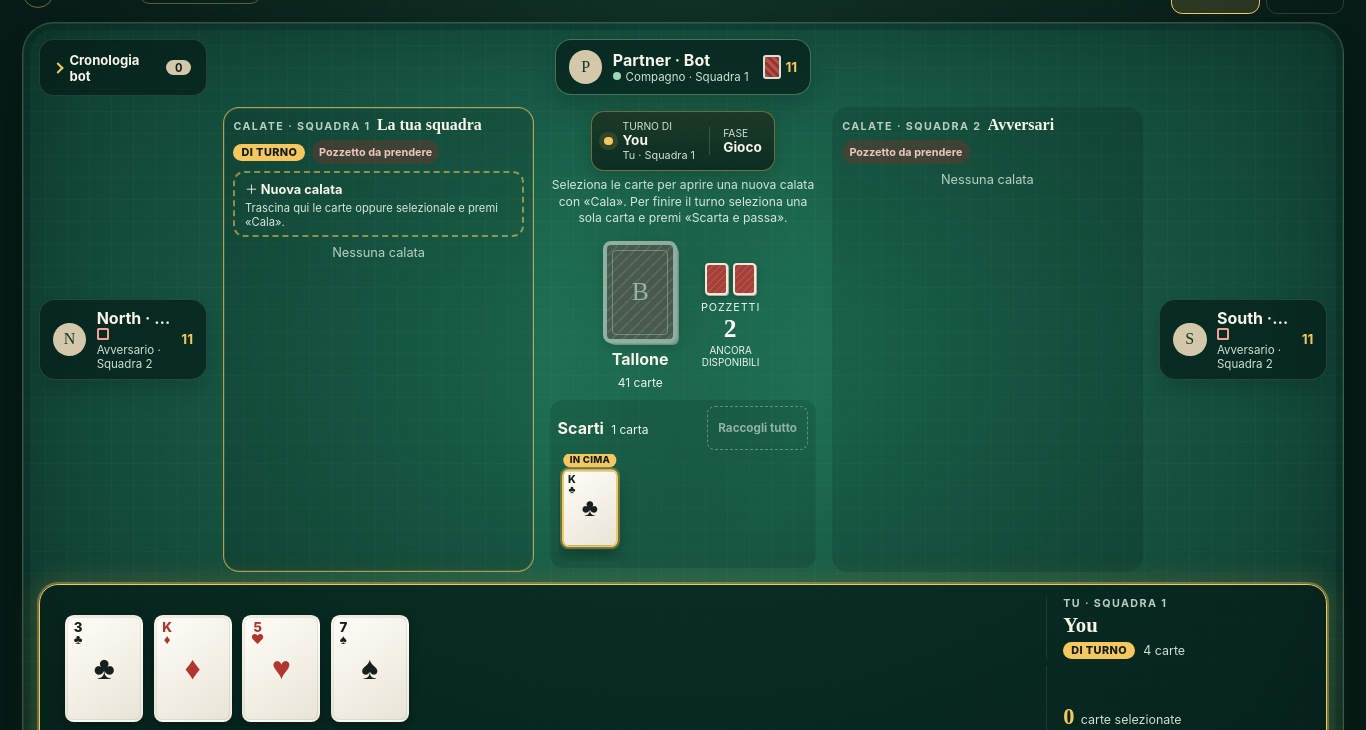
it: GameTable M30 motion layer › creates no flight for a rejected engine action
The width and height of the screenshot is (1366, 730).
Click the button "3 ♣ ♣". click: (104, 668)
box: [65, 614, 143, 722]
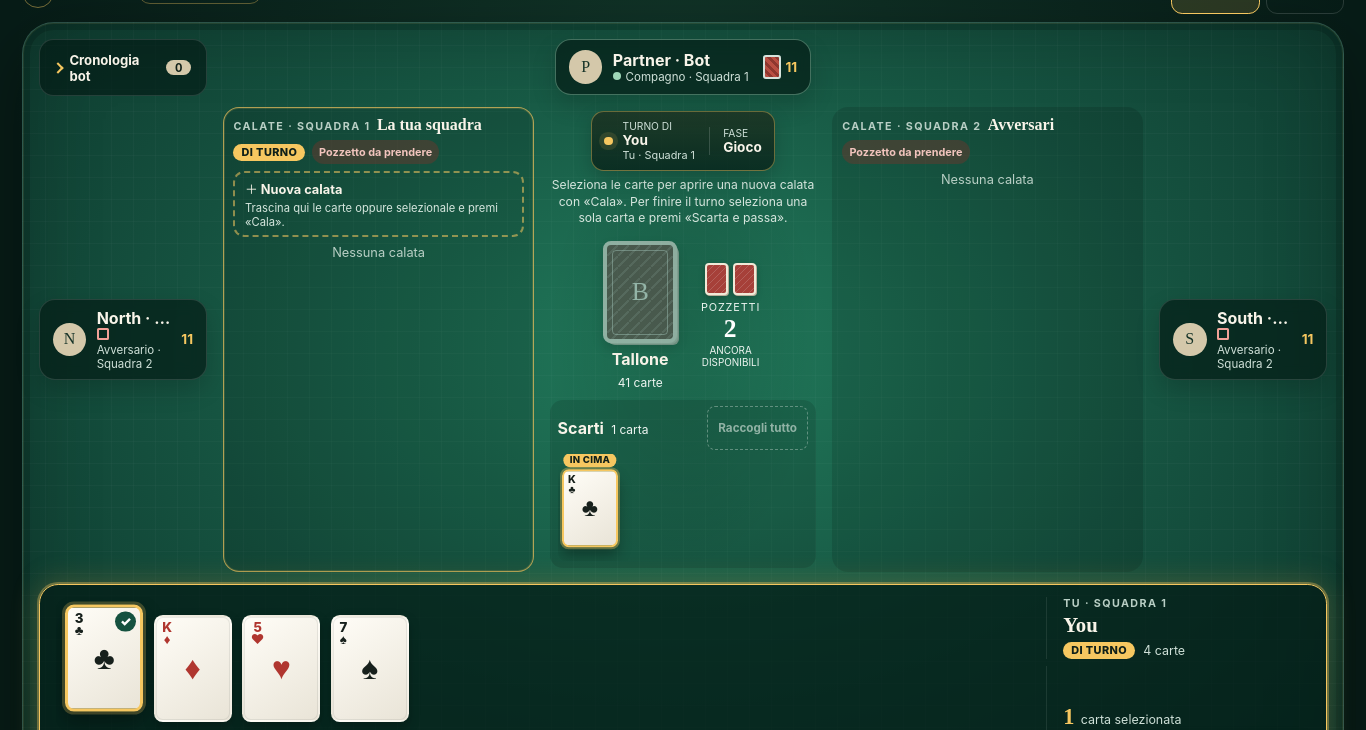
Click the button "5 ♥ ♥". click: (281, 668)
box: [242, 614, 320, 722]
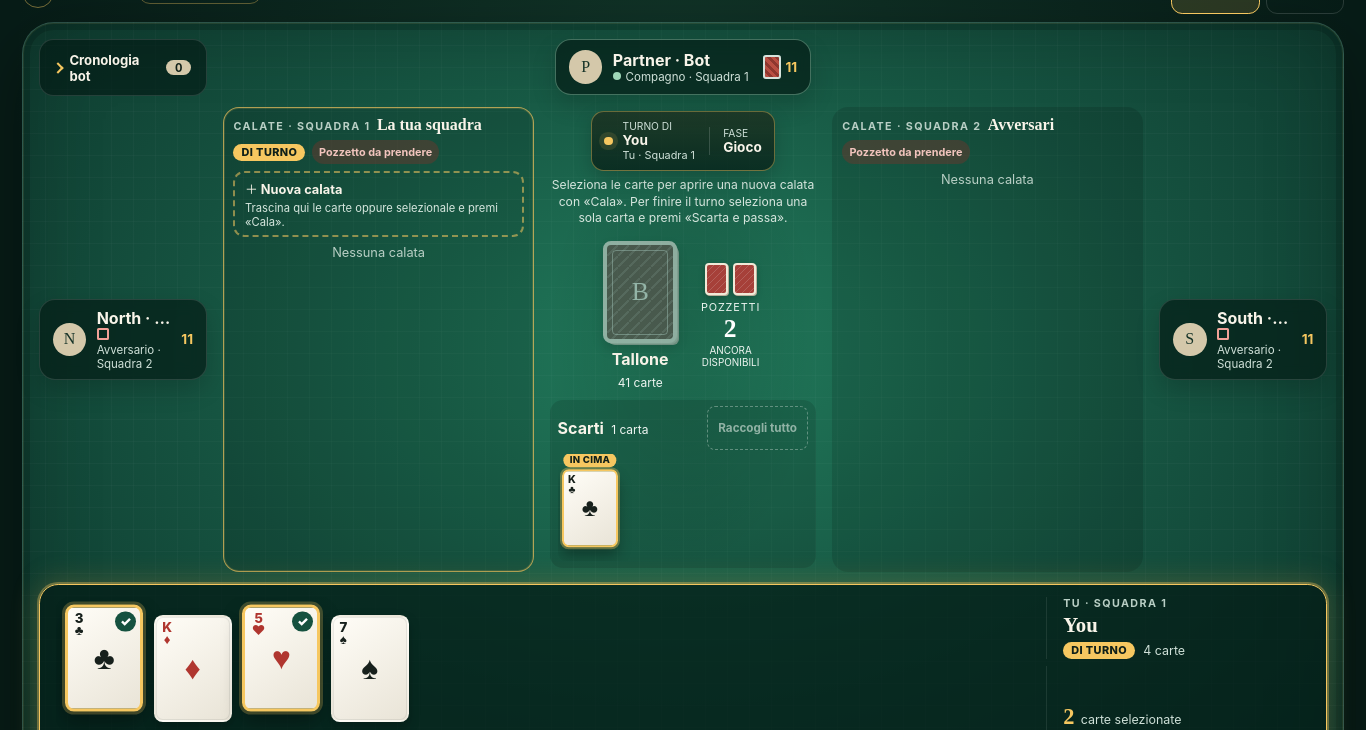
Click the button "7 ♠ ♠". click: (370, 668)
box: [331, 614, 409, 722]
(page scrolled)
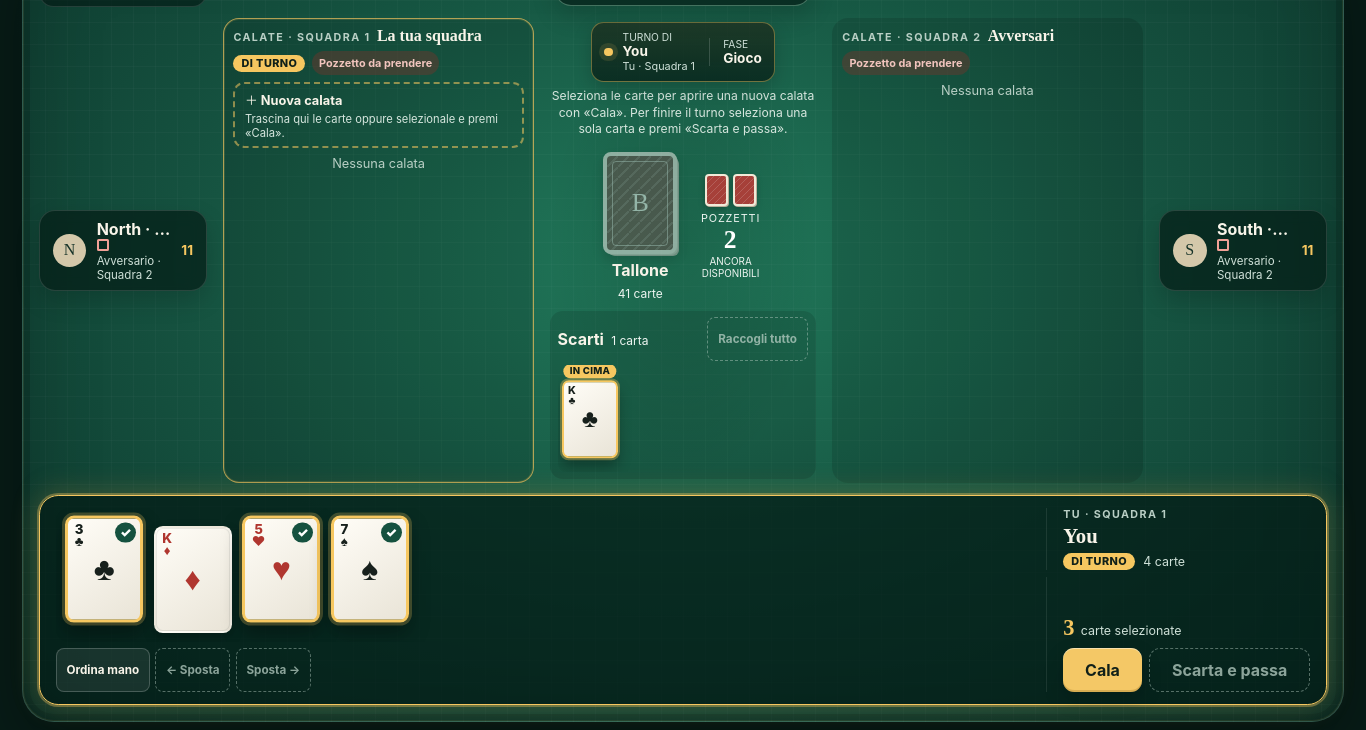
Click the button "Cala". click: (1103, 670)
box: [1063, 648, 1142, 692]
(page scrolled)
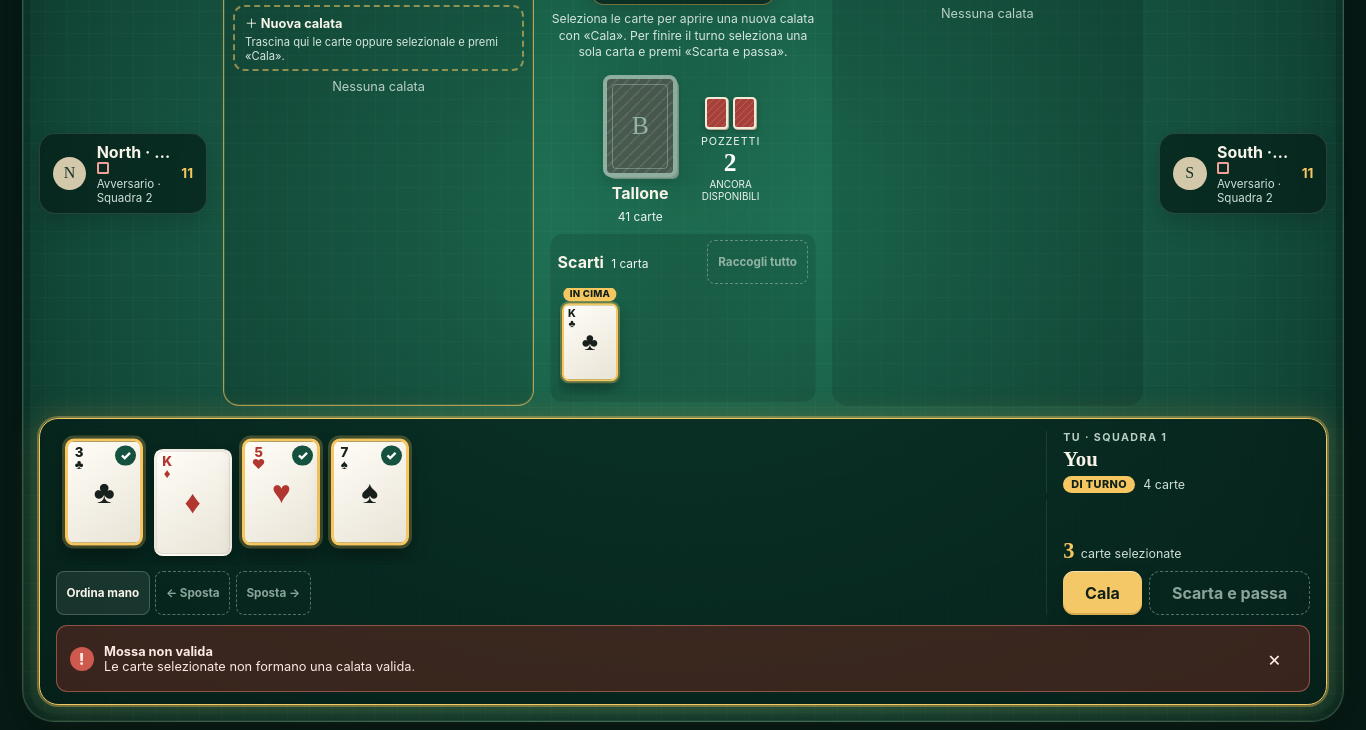
Expected: the message "! Mossa non valida Le carte selezionate non formano una calata valida. ×" is shown, [56, 625, 1310, 692]
